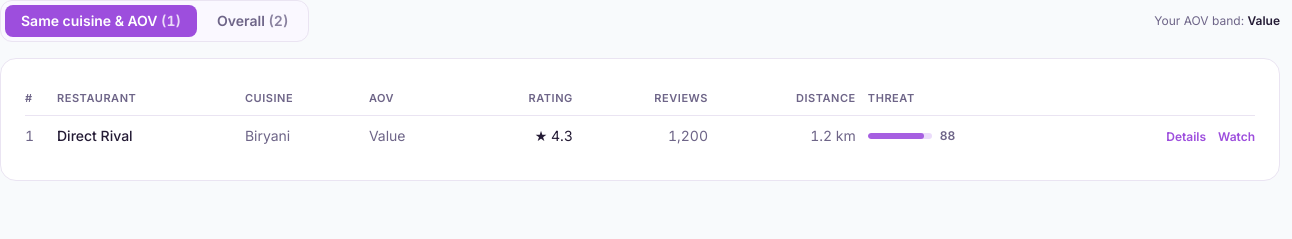
Test: TopThreatsView › segmented control switches to Overall bucket
Click the button "Overall (2)" at (253, 21), box [201,5,304,37]
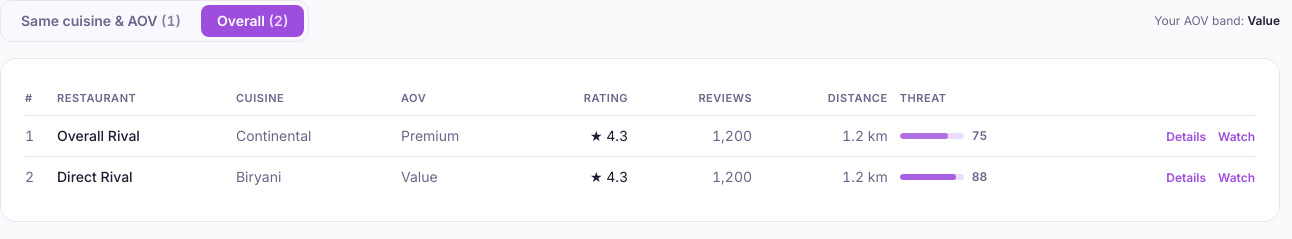
Result: the text "Overall Rival" is shown at [57,115,236,156]
